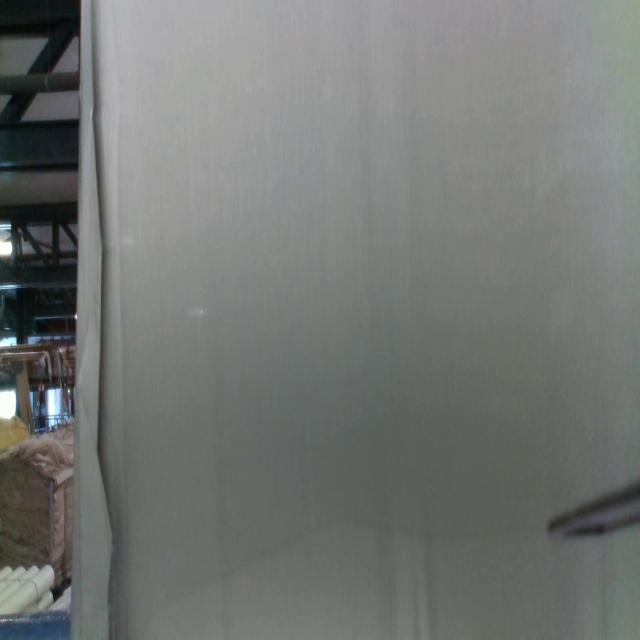color bleeding: (136, 493, 544, 624)
